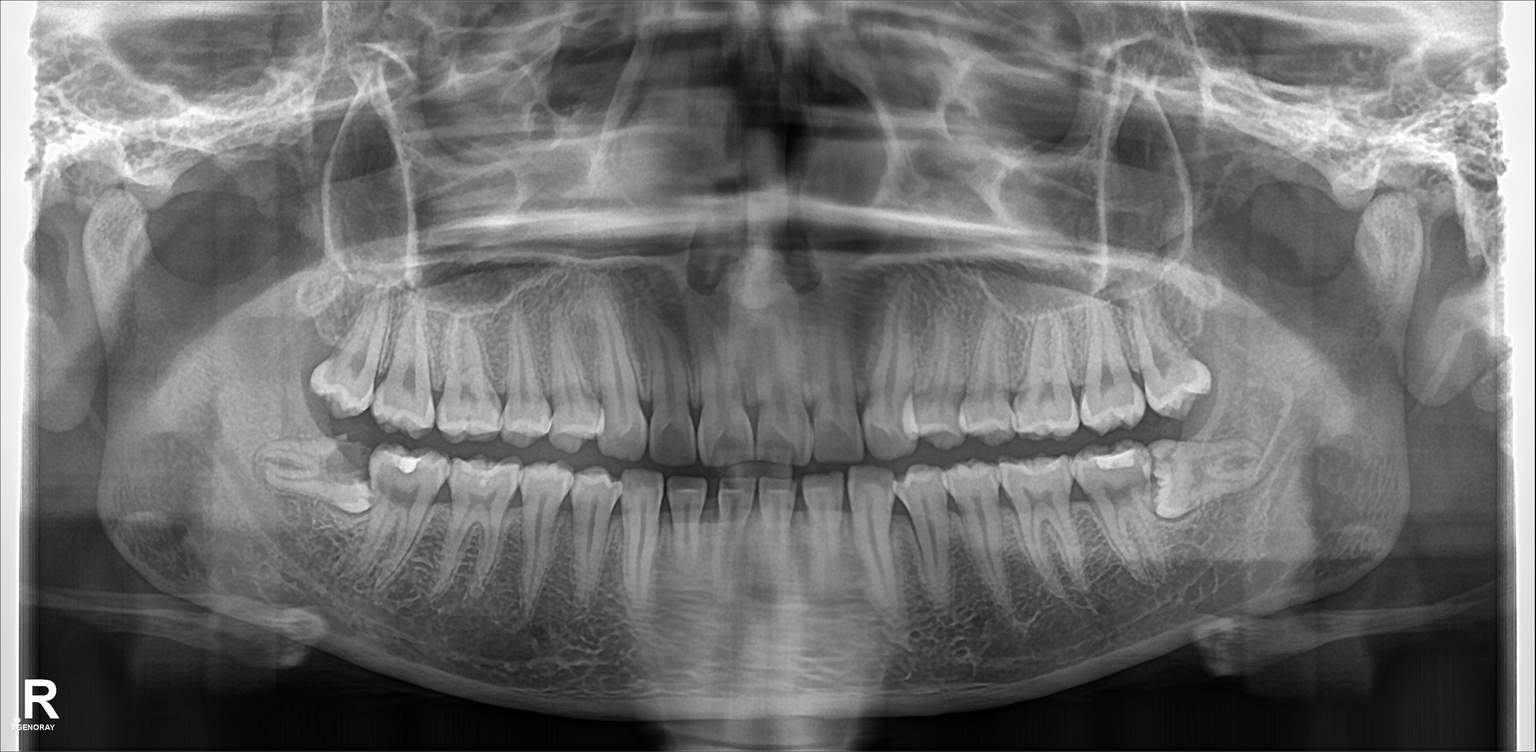Dental Caries: (656, 419, 696, 462)
Impacted Third Molar: (1149, 441, 1275, 512), (253, 441, 378, 512)
